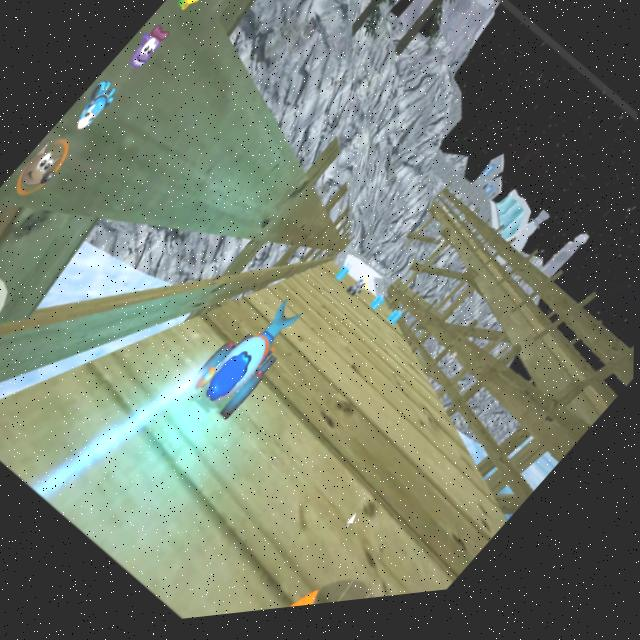bonus: (331, 267, 357, 297), (384, 312, 408, 339), (370, 296, 391, 320)
enemy_kart: (342, 281, 369, 310)
player_kart: (161, 279, 325, 458)
track: (211, 302, 479, 590)
